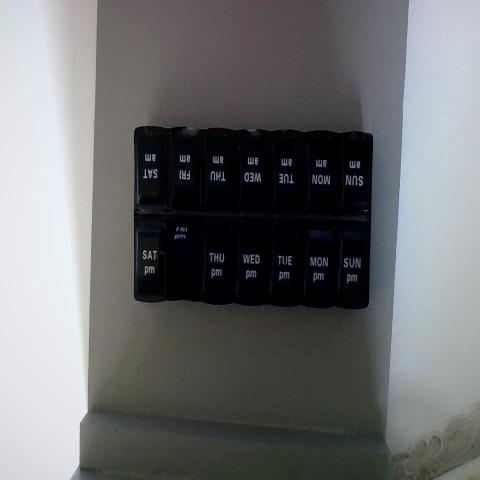FRI-am: (166, 132, 194, 209)
MON-am: (301, 129, 336, 209)
MON-pm: (298, 222, 334, 305)
Open: (166, 225, 198, 302)
PillBox: (116, 100, 382, 367)
SAT-am: (134, 124, 169, 205)
SAT-pm: (134, 221, 166, 298)
SUN-am: (338, 130, 371, 216)
SUN-pm: (335, 222, 369, 304)
THU-am: (199, 129, 232, 211)
THU-pm: (199, 217, 233, 303)
TUE-am: (269, 131, 300, 210)
TUE-pm: (266, 226, 297, 307)
WED-am: (234, 130, 266, 212)
WED-pm: (230, 226, 265, 304)
